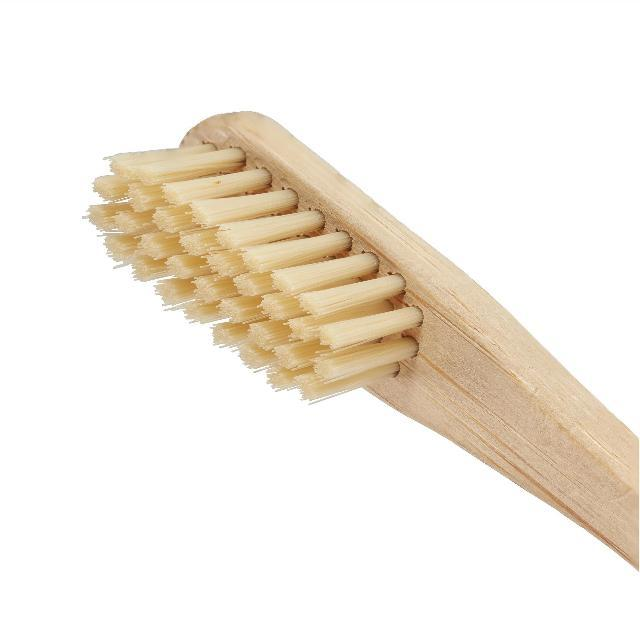toothbrush: (76, 89, 640, 594)
